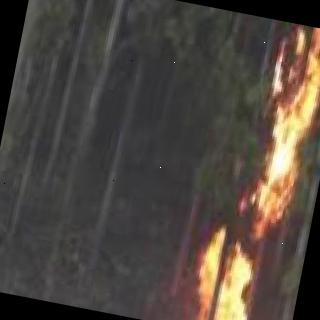fire: (146, 20, 320, 320)
